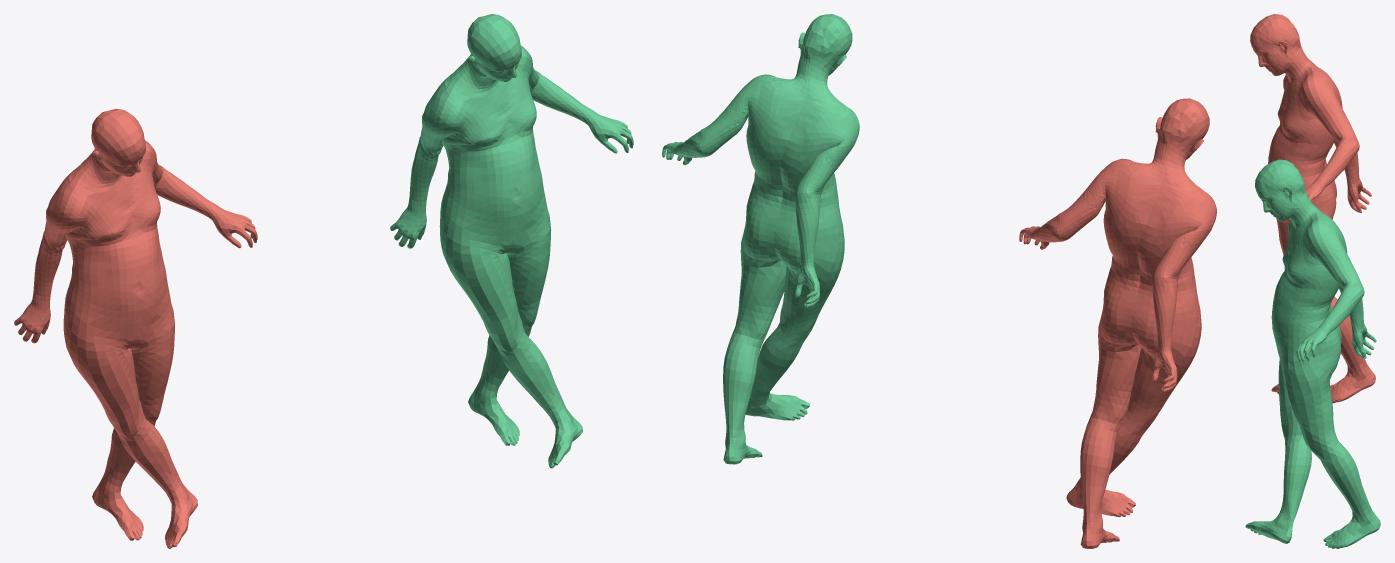
The model's file is pose_057_before_after.glb.
3 views of the same model, side by side, from view 1: azimuth 30°, elevation 25°; view 2: azimuth 150°, elevation 25°; view 3: azimuth 270°, elevation 25° (orthographic). The views are drawn at different scales.
Visible parts, largest first — view 1: poseshield_green, input_red; view 2: poseshield_green, input_red; view 3: poseshield_green, input_red.
Part boxes in pixels (box(x1,y1,x2,y2)): poseshield_green: box(390, 14, 633, 468); input_red: box(14, 108, 257, 548); poseshield_green: box(662, 14, 859, 464); input_red: box(1019, 98, 1216, 548); poseshield_green: box(1245, 159, 1380, 548); input_red: box(1250, 14, 1375, 403).
Size of what is drawn, in the model's own units: 2.21 by 1.68 by 0.5661.
